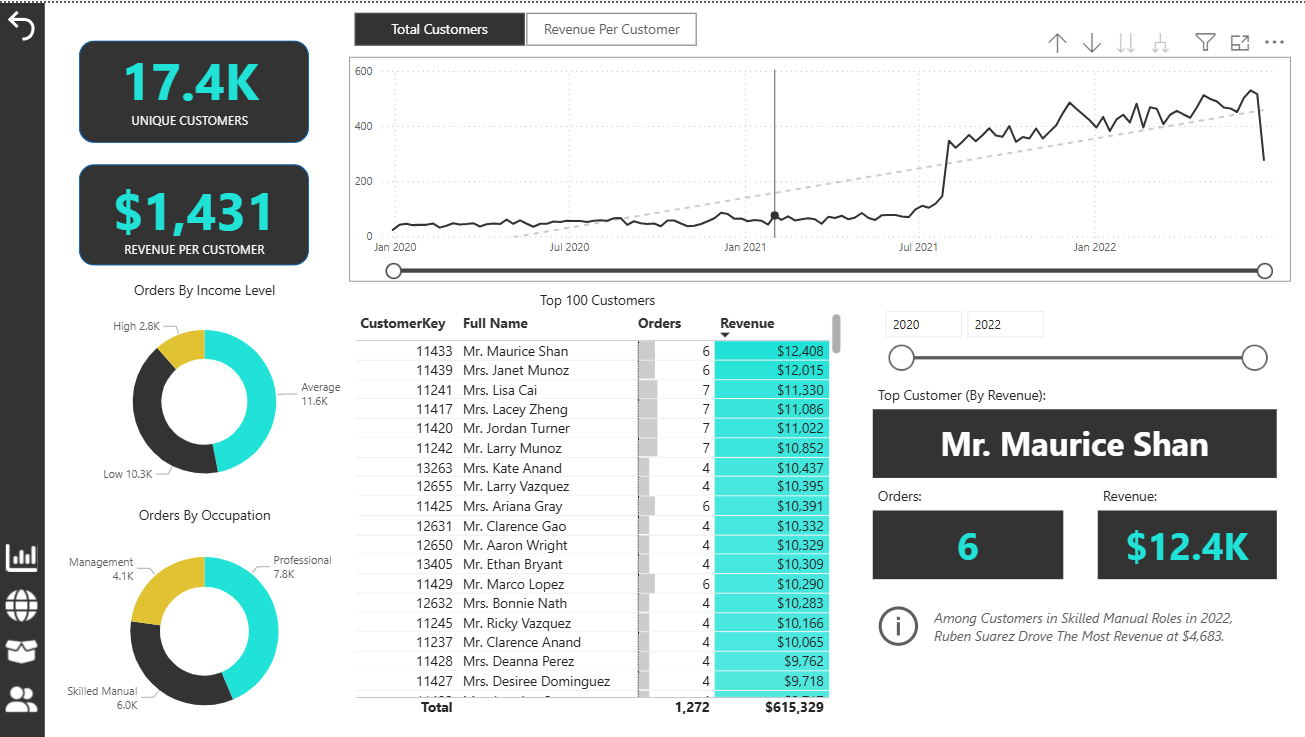

Layout of this report page (visuals, bound fields, positions):
{"tool":"powerbi","page":{"name":"Customer Detail","canvas":[1280,720],"ordinal":3},"visuals":[{"type":"shape","box":[0,0,45,720],"z":0},{"type":"actionButton","box":[1.8,523.4,45.2,39.1],"z":0,"group":"g1"},{"type":"actionButton","box":[1.8,569.5,45.2,39.1],"z":1000,"group":"g1"},{"type":"shape","box":[78.3,157.7,225,99],"z":1000},{"type":"card","fields":{"Values":["Measures Table.Average Revenue Per Customer"]},"box":[83.2,126,216.4,165.1],"z":2000},{"type":"actionButton","box":[1.8,661.6,45.2,39.1],"z":2000,"group":"g1"},{"type":"shape","box":[78.3,36.7,225,100.3],"z":3000},{"type":"actionButton","box":[1.8,615.5,45.2,39.1],"z":3000,"group":"g1"},{"type":"card","fields":{"Values":["Measures Table.Total Customers"]},"box":[78.6,0,217.1,164.3],"z":4000},{"type":"lineChart","title":"Weekly Customers","fields":{"Y":["Measures Table.Total Customers"],"Category":["Calendar Lookup.Date Hierarchy.Start of Year","Calendar Lookup.Date Hierarchy.Start of Month","Calendar Lookup.Date Hierarchy.Date","Calendar Lookup.Date Hierarchy.Start of Week"]},"box":[342.5,52.5,921.2,220],"z":5000},{"type":"donutChart","title":"Orders By Income Level","fields":{"Y":["Measures Table.Total Orders"],"Category":["Customer Lookup.Income Level"]},"box":[61.2,271.2,280,220],"z":6000},{"type":"donutChart","title":"Orders By Occupation","fields":{"Y":["Measures Table.Total Orders"],"Category":["Customer Lookup.Occupation"]},"box":[61.1,491.6,280,228.7],"z":7000},{"type":"tableEx","title":"Top 100 Customers","fields":{"Values":["Customer Lookup.CustomerKey","Customer Lookup.Full Name","Measures Table.Total Orders","Measures Table.Total Revenue"]},"box":[342.5,281.2,486.2,421.2],"z":8000},{"type":"card","fields":{"Values":["Customer Lookup.Full Name (Customer Detail)"]},"box":[854.8,397.2,395,67.5],"z":9000},{"type":"card","fields":{"Values":["Measures Table.Total Revenue (Customer Detail)"]},"box":[1074.9,496.5,174.9,67.3],"z":10000},{"type":"card","fields":{"Values":["Measures Table.Total Orders (Customer Detail)"]},"box":[854.6,496.3,186.2,67.5],"z":11000},{"type":"textbox","box":[854.5,368.8,185.9,28.1],"z":12000},{"type":"textbox","box":[1074.6,467.9,72.1,28.1],"z":13000},{"type":"textbox","box":[854.5,467.9,62.4,28.1],"z":14000},{"type":"slicer","fields":{"Values":["Calendar Lookup.Year"]},"box":[854.8,291,395,78.3],"z":15000},{"type":"actionButton","box":[854.8,584.5,395,50.1],"z":16000},{"type":"actionButton","box":[2.4,2.4,45.2,39.1],"z":17000},{"type":"group","id":"g1","title":"Navigation Buttons","box":[1.8,523.4,45.2,177.3],"z":18000},{"type":"slicer","fields":{"Values":["Customer Matric Selection.Customer Matric Selection"]},"box":[321.2,2.5,385,46.2],"z":19000}]}

Visuals, with their boxes on the page's 1280x720 design canvas (x1, y1, x2, y2). These are canvas units, not pixel positions in the 1305x737 screenshot, which may show the page scaled, cropped or inside an application window:
shape: (0,0,45,720)
actionButton: (2,523,47,562)
actionButton: (2,570,47,609)
shape: (78,158,303,257)
card - Measures Table.Average Revenue Per Customer: (83,126,300,291)
actionButton: (2,662,47,701)
shape: (78,37,303,137)
actionButton: (2,616,47,655)
card - Measures Table.Total Customers: (79,0,296,164)
"Weekly Customers" lineChart: (342,52,1264,272)
"Orders By Income Level" donutChart: (61,271,341,491)
"Orders By Occupation" donutChart: (61,492,341,720)
"Top 100 Customers" tableEx: (342,281,829,702)
card - Customer Lookup.Full Name (Customer Detail): (855,397,1250,465)
card - Measures Table.Total Revenue (Customer Detail): (1075,496,1250,564)
card - Measures Table.Total Orders (Customer Detail): (855,496,1041,564)
textbox: (854,369,1040,397)
textbox: (1075,468,1147,496)
textbox: (854,468,917,496)
slicer - Calendar Lookup.Year: (855,291,1250,369)
actionButton: (855,584,1250,635)
actionButton: (2,2,48,42)
"Navigation Buttons" group: (2,523,47,701)
slicer - Customer Matric Selection.Customer Matric Selection: (321,2,706,49)
